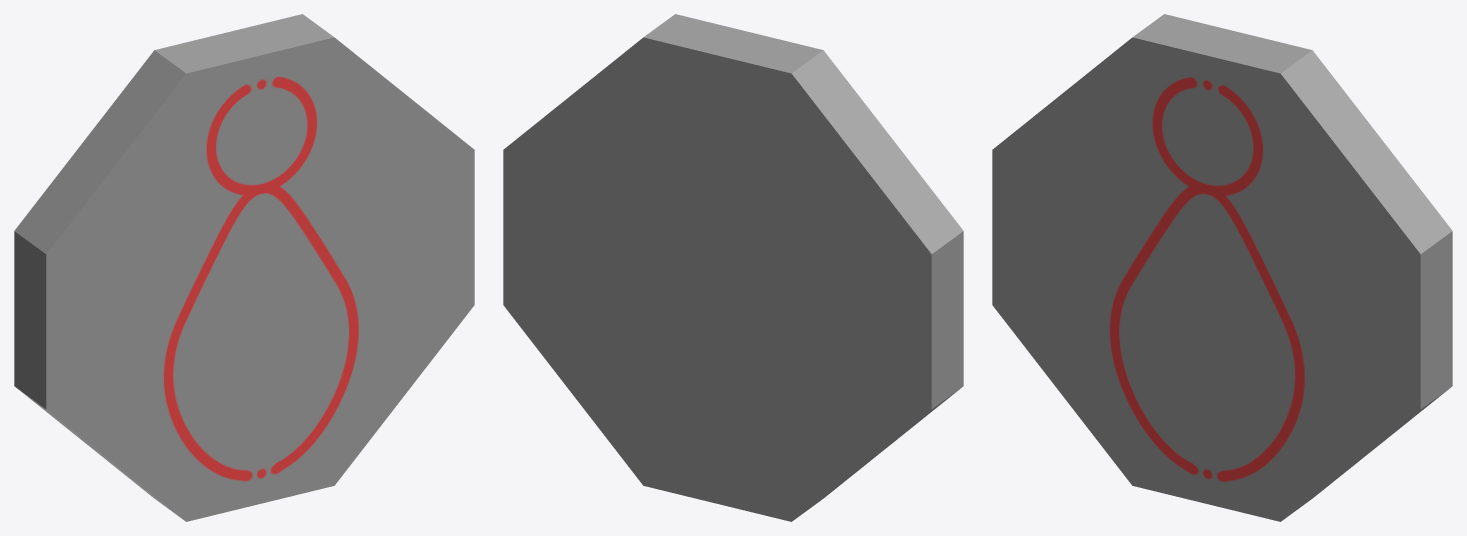
File: Toiletmark1.fbx
3 views of the same model, side by side, from view 1: azimuth 30°, elevation 25°; view 2: azimuth 150°, elevation 25°; view 3: azimuth 330°, elevation 25° (orthographic).
Visible parts, largest first — view 1: 立方体.016; view 2: 立方体.016; view 3: 立方体.016.
Part boxes in pixels (x1,y1,x2,y2): 立方体.016: (14,14,474,521); 立方体.016: (503,14,963,521); 立方体.016: (992,14,1452,521).
Size of the model in its own units: 87.04 by 87.04 by 11.25.
1 material, 1 textured.
